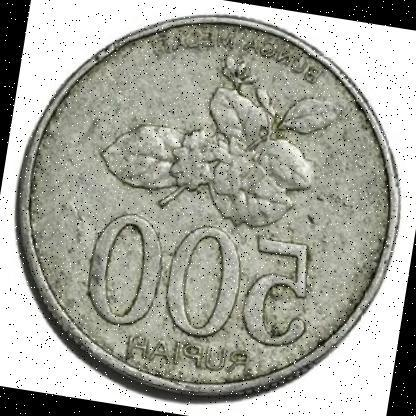coin_500_e2003: (17, 14, 402, 403)
